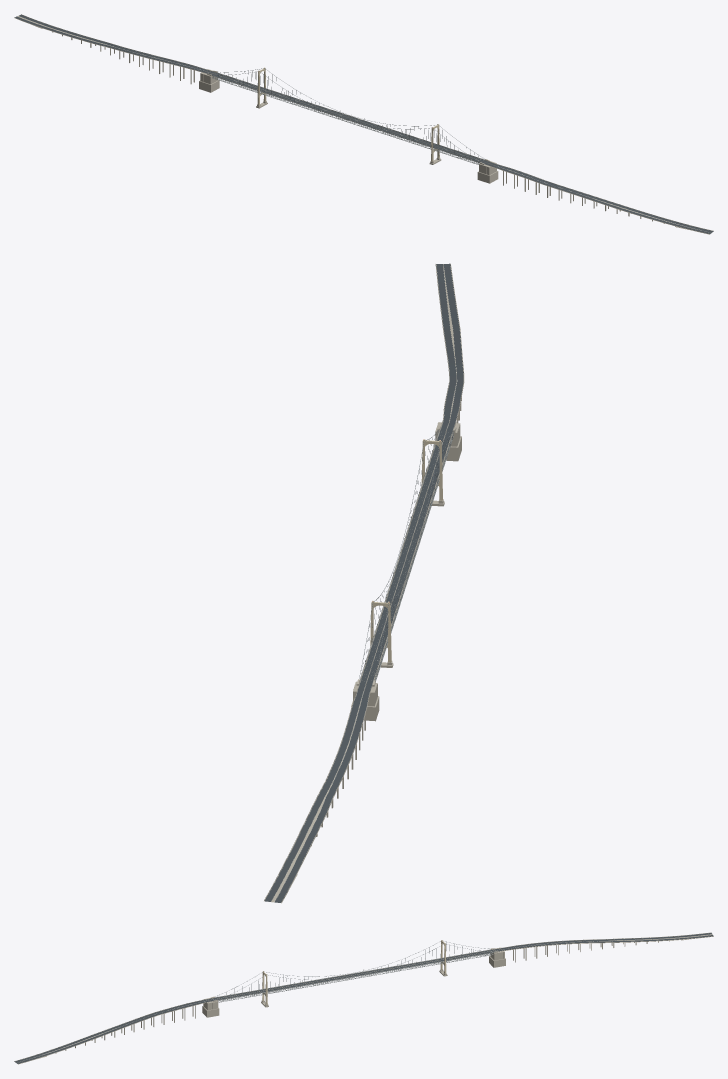
Rendered from pont-pierre-laporte-near.glb.
The picture shows the model from 3 angles, top to bottom: view 1: azimuth 30°, elevation 25°; view 2: azimuth 150°, elevation 25°; view 3: azimuth 270°, elevation 25°; orthographic projection. The views are drawn at different scales.
Parts seen in each view (by area): view 1: pont-pierre-laporte-2-concrete, pont-pierre-laporte-0-concrete, pont-pierre-laporte-2-asphalt, pont-pierre-laporte-1-steel, pont-pierre-laporte-0-asphalt, pont-pierre-laporte-1-asphalt, pont-pierre-laporte-1-concrete, pont-pierre-laporte-1-cable, pont-pierre-laporte-1-tower; view 2: pont-pierre-laporte-0-asphalt, pont-pierre-laporte-2-asphalt, pont-pierre-laporte-1-asphalt, pont-pierre-laporte-0-concrete, pont-pierre-laporte-2-concrete; view 3: pont-pierre-laporte-0-concrete, pont-pierre-laporte-2-concrete, pont-pierre-laporte-1-steel, pont-pierre-laporte-2-asphalt, pont-pierre-laporte-0-asphalt, pont-pierre-laporte-1-asphalt, pont-pierre-laporte-1-concrete, pont-pierre-laporte-1-cable, pont-pierre-laporte-1-tower.
Part boxes in pixels (x1,y1,x2,y2): pont-pierre-laporte-2-concrete: (463, 154, 713, 234); pont-pierre-laporte-0-concrete: (14, 14, 236, 92); pont-pierre-laporte-2-asphalt: (461, 154, 713, 233); pont-pierre-laporte-1-steel: (232, 79, 465, 158); pont-pierre-laporte-0-asphalt: (15, 14, 235, 81); pont-pierre-laporte-1-asphalt: (232, 79, 464, 155); pont-pierre-laporte-1-concrete: (234, 79, 464, 164); pont-pierre-laporte-1-cable: (235, 68, 458, 154); pont-pierre-laporte-1-tower: (257, 67, 439, 161); pont-pierre-laporte-0-asphalt: (264, 663, 378, 902); pont-pierre-laporte-2-asphalt: (434, 263, 463, 450); pont-pierre-laporte-1-asphalt: (366, 450, 445, 663); pont-pierre-laporte-0-concrete: (264, 663, 379, 903); pont-pierre-laporte-2-concrete: (433, 263, 464, 461); pont-pierre-laporte-0-concrete: (471, 932, 713, 967); pont-pierre-laporte-2-concrete: (14, 994, 237, 1064); pont-pierre-laporte-1-steel: (235, 953, 473, 999); pont-pierre-laporte-2-asphalt: (14, 994, 236, 1063); pont-pierre-laporte-0-asphalt: (471, 933, 713, 955); pont-pierre-laporte-1-asphalt: (235, 953, 472, 996); pont-pierre-laporte-1-concrete: (235, 953, 471, 1007); pont-pierre-laporte-1-cable: (241, 941, 469, 995); pont-pierre-laporte-1-tower: (262, 940, 446, 1004).
Size of the model in its own units: 1077 by 123 by 2421.
